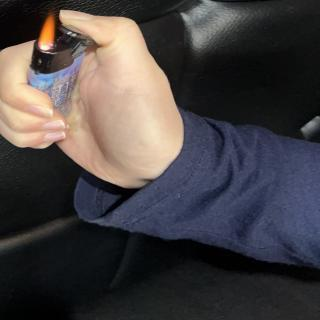fire: (36, 11, 56, 52)
